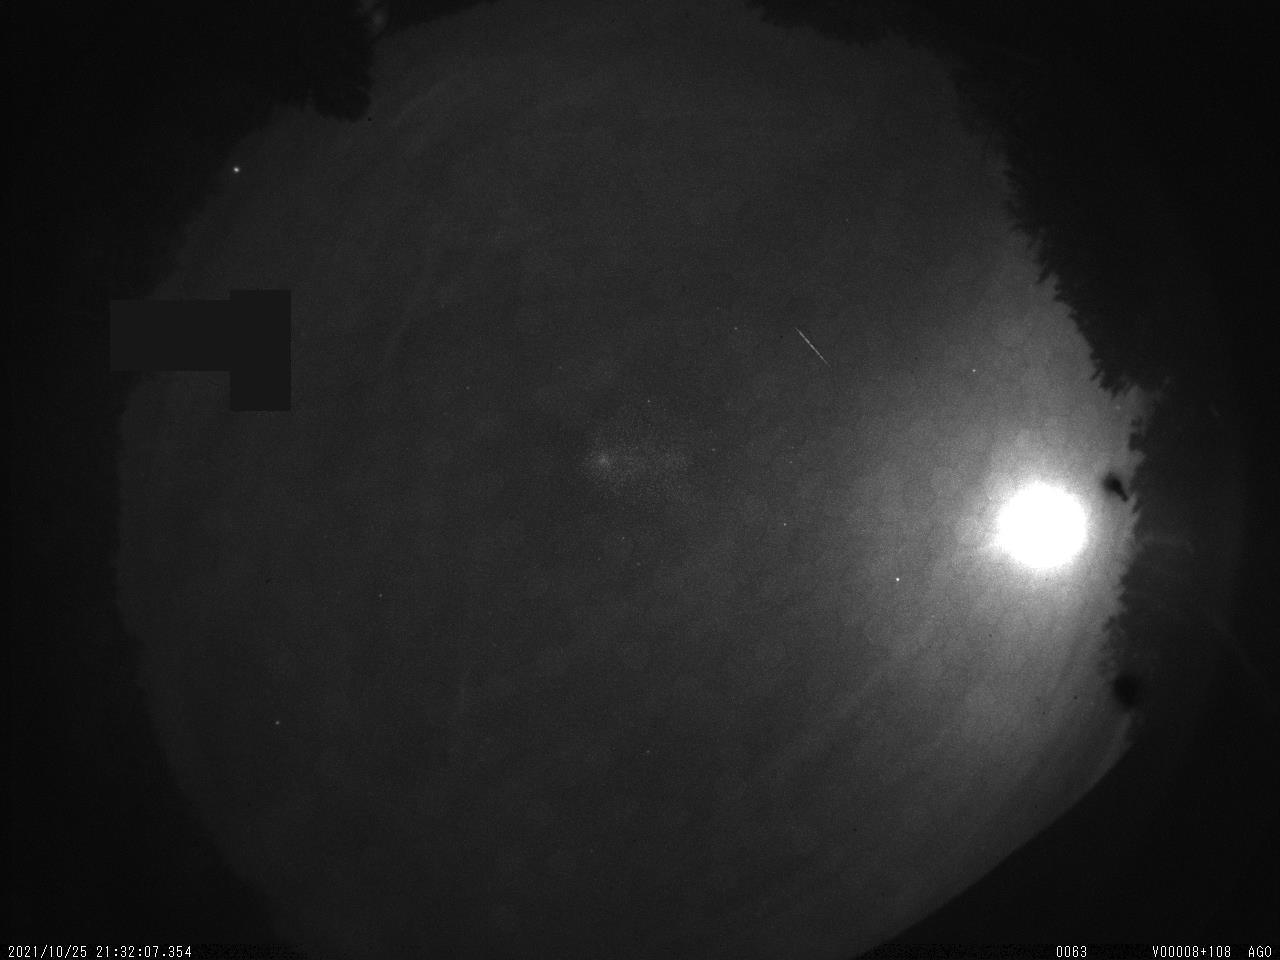meteor: (784, 313, 851, 382)
